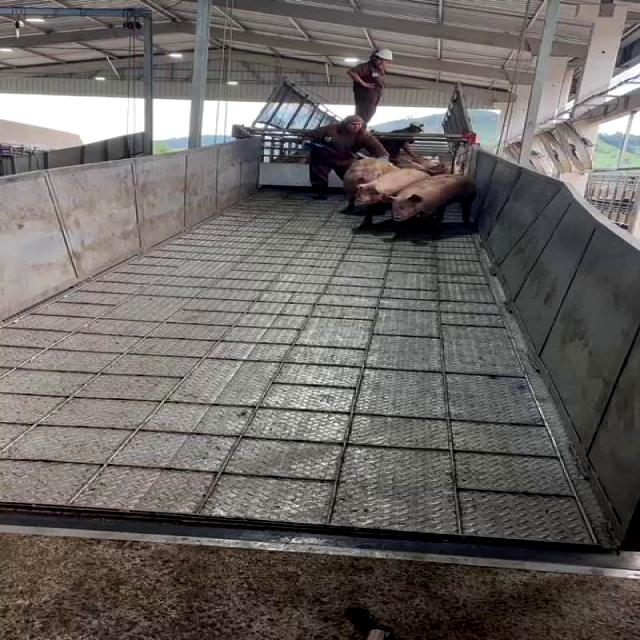pig: (392, 174, 477, 222), (358, 169, 429, 224), (344, 158, 399, 209)
